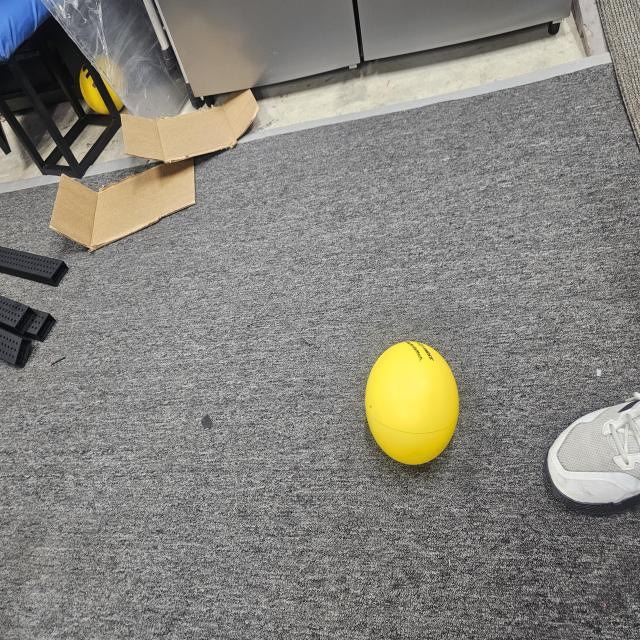Fuel: (362, 335, 463, 474)
